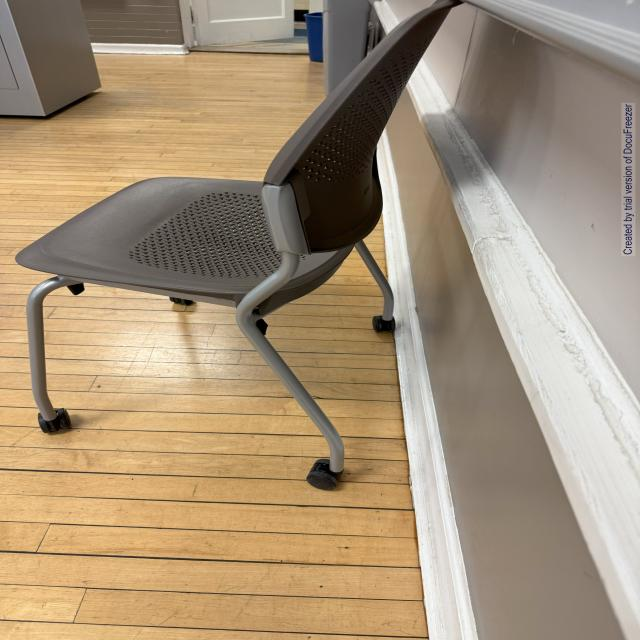chair: (9, 0, 497, 492)
